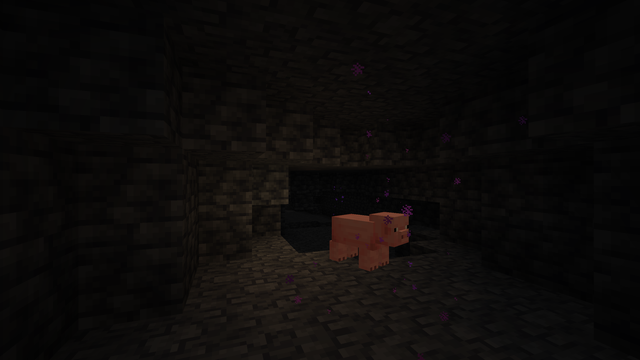cochons: (331, 212, 393, 271)
